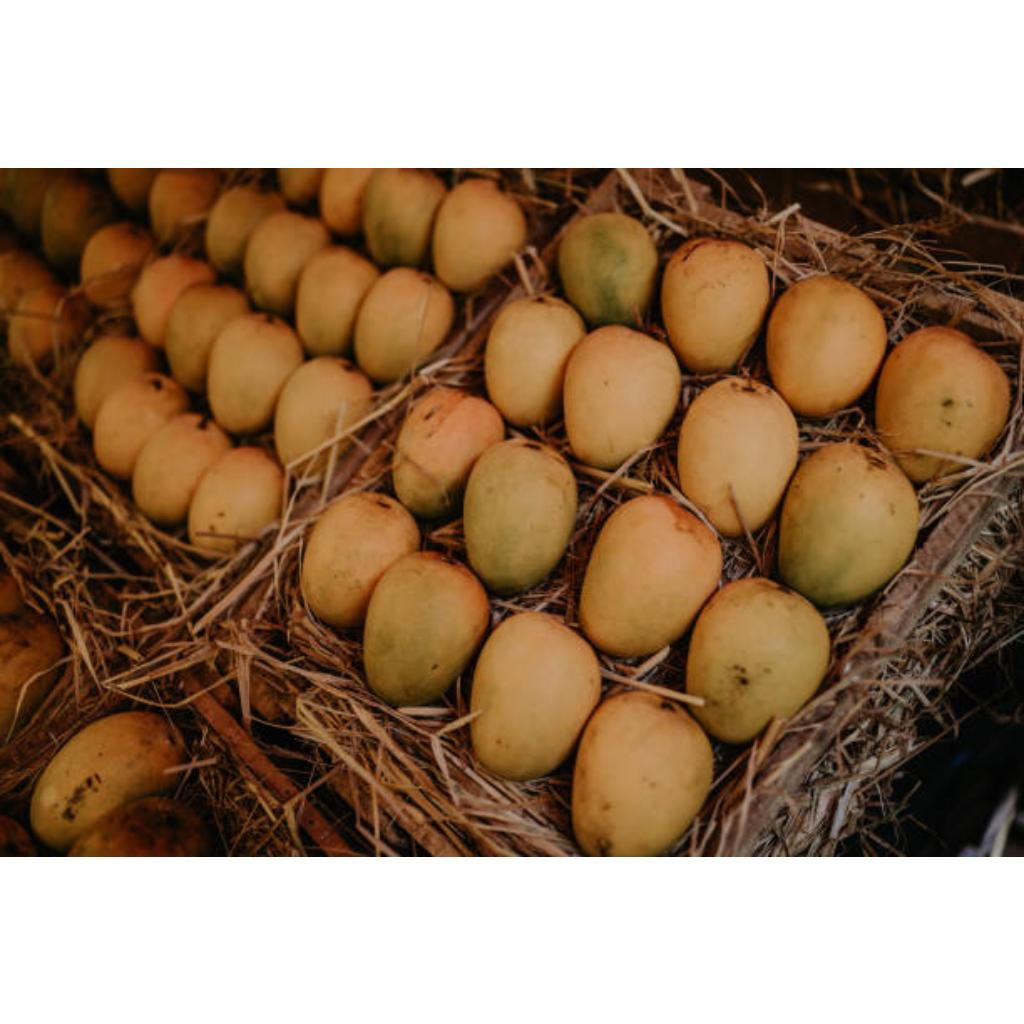mango: (686, 577, 830, 742), (778, 441, 920, 605), (572, 691, 712, 855), (580, 495, 720, 656), (470, 611, 602, 778), (30, 711, 186, 848), (876, 325, 1010, 480), (364, 551, 488, 705), (678, 377, 798, 534), (464, 437, 578, 594), (766, 273, 886, 416), (564, 325, 680, 466), (302, 491, 420, 626), (392, 387, 504, 517), (662, 237, 770, 370), (486, 295, 586, 424), (206, 313, 304, 433), (354, 267, 454, 381), (132, 411, 232, 524), (558, 213, 656, 324), (432, 179, 526, 290), (274, 357, 372, 462), (96, 371, 188, 478), (190, 447, 282, 550), (296, 245, 380, 354), (166, 283, 250, 392), (244, 211, 330, 314), (362, 167, 446, 265), (74, 335, 158, 426), (206, 183, 286, 275), (134, 257, 216, 346), (320, 167, 374, 234)
